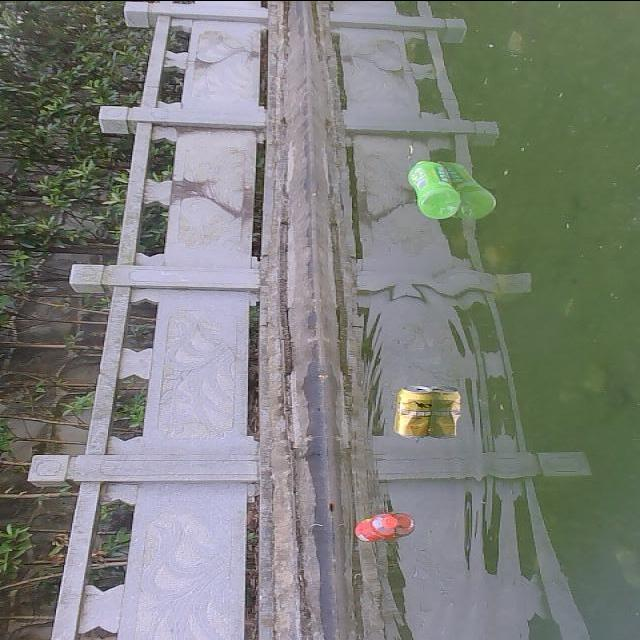Bottle: (406, 157, 458, 221), (353, 510, 402, 545)
Can: (392, 382, 438, 439)
